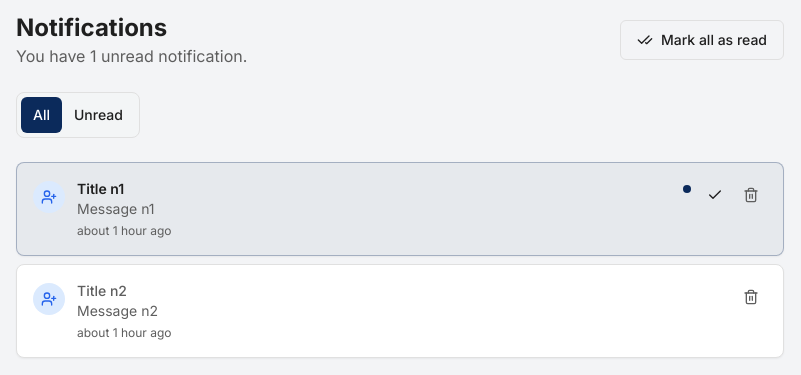
Scenario: Notifications page › marks all as read
Expected: the text "You have 1 unread notification." is shown, [16,44,247,68]
Click the button "Mark all as read".
click(702, 40)  # box [620,20,784,60]
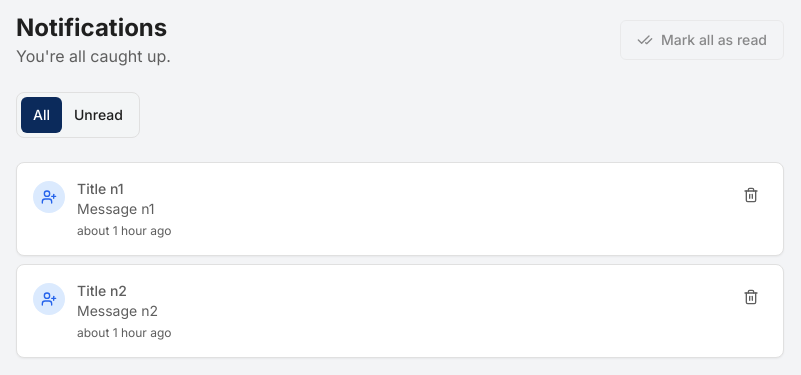
Now the text "You're all caught up." is shown, box [16,44,171,68]
